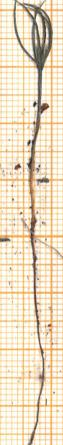flower: (7, 0, 63, 71)
root: (16, 238, 48, 444)
stem: (22, 67, 49, 239)
